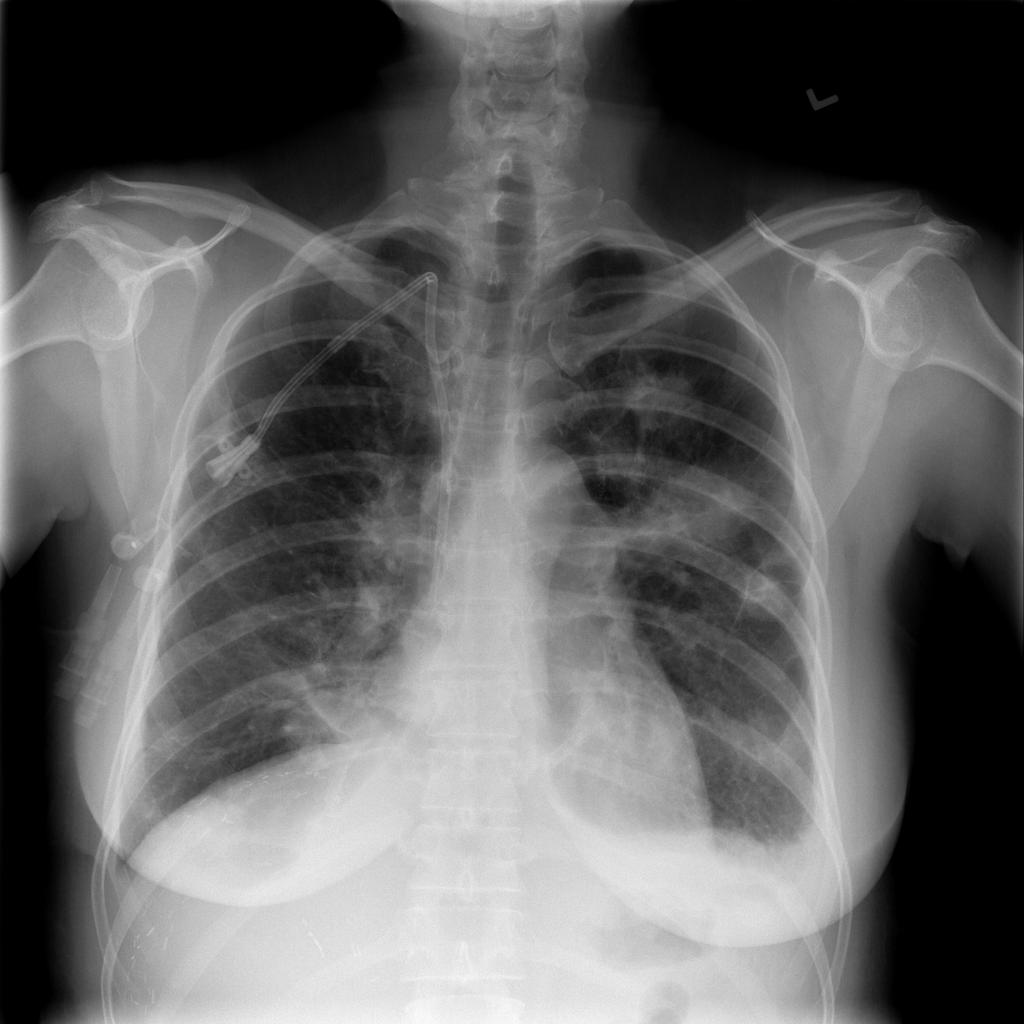nodule: (268, 659, 422, 785), (634, 450, 775, 571), (603, 347, 721, 456), (720, 556, 805, 630)
